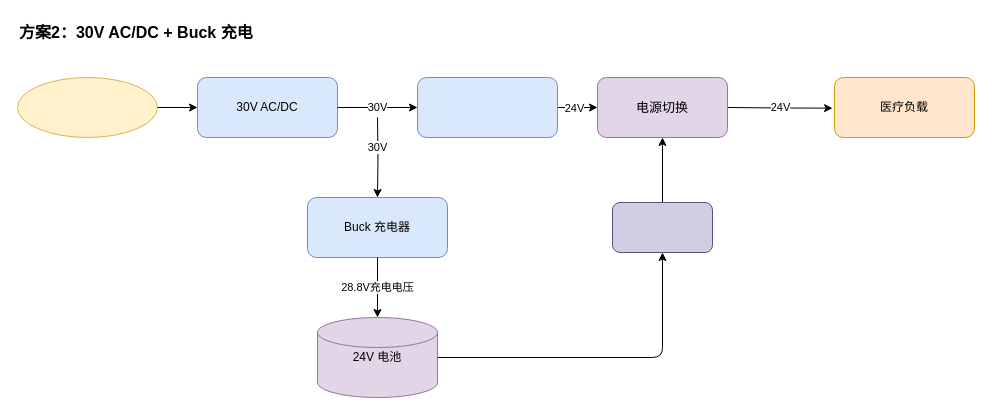
The diagram is 992 pixels wide and 415 high, and some of its shapes have lost their labels. Here are the shapes that lost their labels. From the top down, the box of each, then its label:
(16, 76, 158, 138): AC 220V
(416, 76, 558, 138): Buck 24V
(612, 202, 712, 252): 稳压
